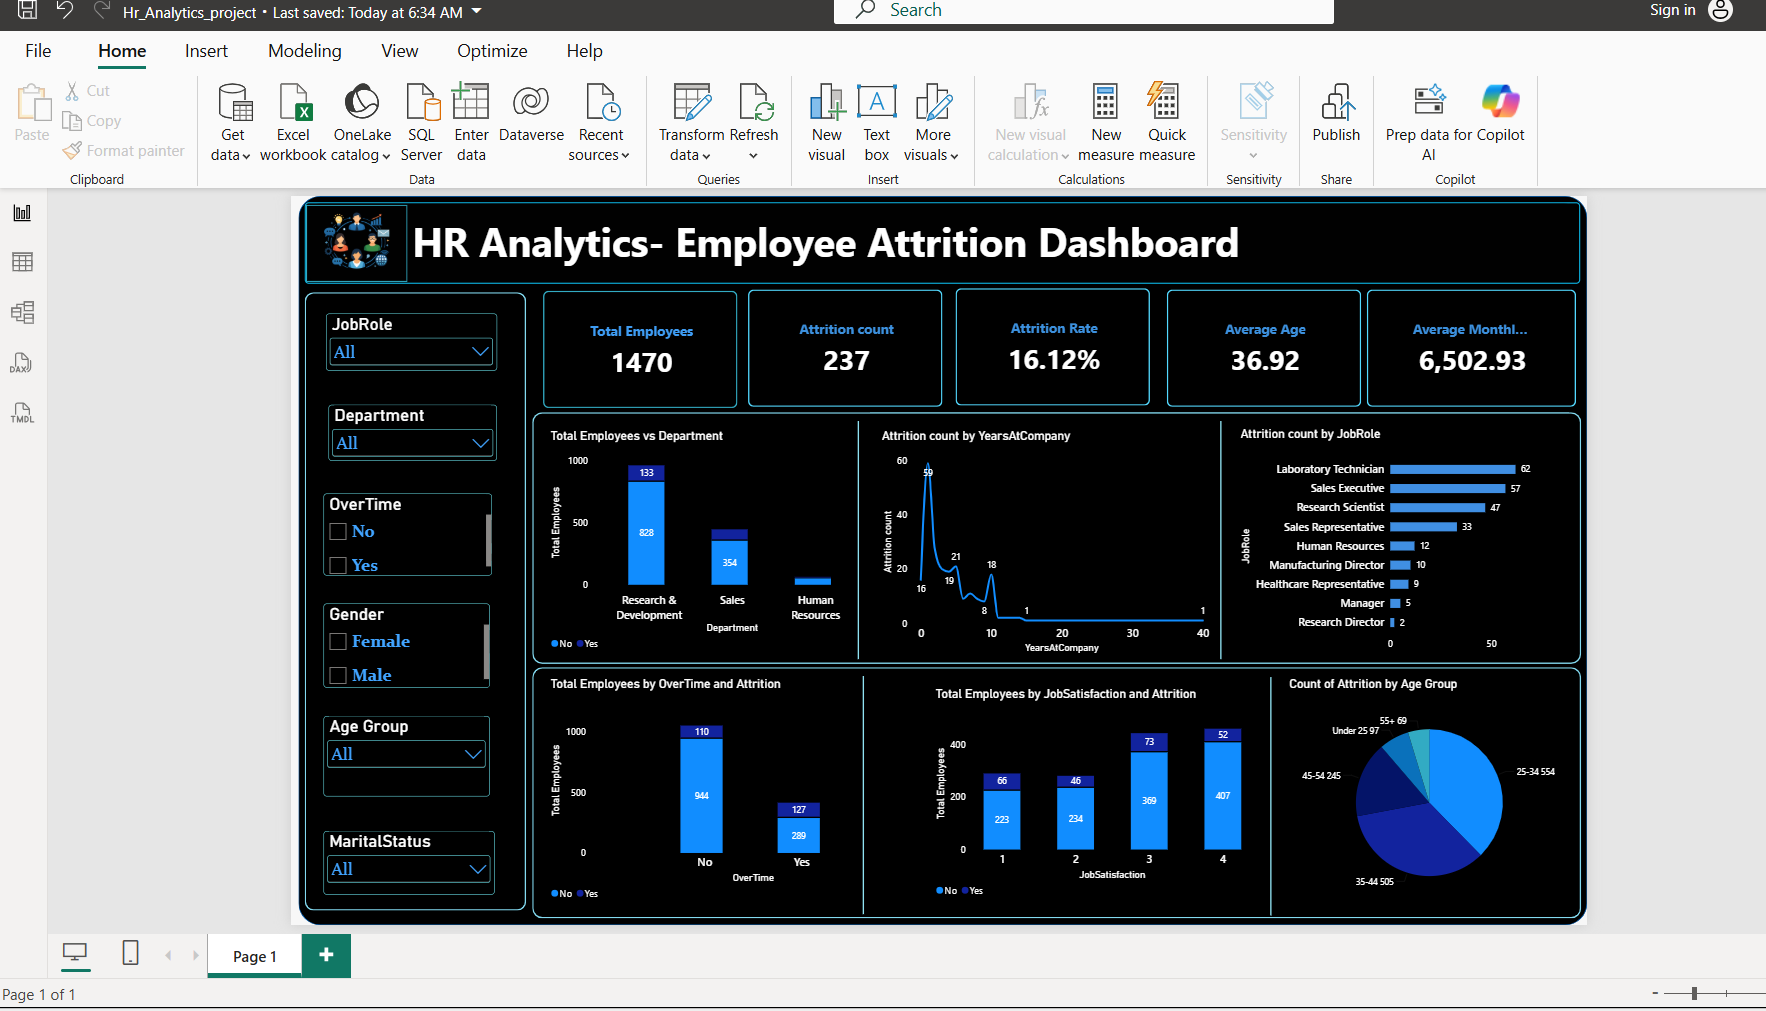

Layout of this report page (visuals, bound fields, positions):
{"tool":"powerbi","page":{"name":"Page 1","canvas":[1920,1080],"ordinal":0},"visuals":[{"type":"shape","box":[10.9,0,1909.2,1080.4],"z":0},{"type":"cardVisual","fields":{"Data":["Hr_Analytics.Attrition count"]},"box":[660.5,124.9,320,204],"z":1000},{"type":"cardVisual","fields":{"Data":["Hr_Analytics.Attrition Rate"]},"box":[968.2,123.1,320,204],"z":2000},{"type":"cardVisual","fields":{"Data":["Hr_Analytics.Average Age"]},"box":[1281.2,124.9,320,204],"z":3000},{"type":"cardVisual","fields":{"Data":["Hr_Analytics.Average Monthly Income"]},"box":[1578,124.9,342,204.5],"z":4000},{"type":"shape","box":[19.9,9,1889.3,121],"z":5000},{"type":"textbox","box":[180,27.1,1476.7,106.8],"z":6000},{"type":"shape","box":[19.9,143,328,916],"z":7000},{"type":"slicer","fields":{"Values":["Hr_Analytics.Gender"]},"box":[48.9,604.4,246.1,124.9],"z":8000},{"type":"slicer","fields":{"Values":["Hr_Analytics.OverTime"]},"box":[48.9,441.6,249.7,121.2],"z":9000},{"type":"slicer","fields":{"Values":["Hr_Analytics.JobRole"]},"box":[52.5,173.7,253.4,85.1],"z":10000},{"type":"slicer","fields":{"Values":["Hr_Analytics.Age Group"]},"box":[48.9,770.9,246.1,119.4],"z":11000},{"type":"shape","box":[356.5,320.3,1554,372.8],"z":12000},{"type":"columnChart","title":"Total Employees vs Department","fields":{"Category":["Hr_Analytics.Department"],"Series":["Hr_Analytics.Attrition"],"Y":["Hr_Analytics.Total Employees"]},"box":[369.2,329.4,504.9,363.7],"z":13000},{"type":"barChart","fields":{"Category":["Hr_Analytics.JobRole"],"Y":["Hr_Analytics.Attrition count"]},"box":[1391.6,327.5,501.3,365.6],"z":14000},{"type":"shape","box":[356.5,698.5,1554,372],"z":15000},{"type":"columnChart","fields":{"Category":["Hr_Analytics.OverTime"],"Series":["Hr_Analytics.Attrition"],"Y":["Hr_Analytics.Total Employees"]},"box":[369.2,698.5,570,365.6],"z":16000},{"type":"columnChart","fields":{"Category":["Hr_Analytics.JobSatisfaction"],"Series":["Hr_Analytics.Attrition"],"Y":["Hr_Analytics.Total Employees"]},"box":[939.2,713,501.3,345.6],"z":17000},{"type":"cardVisual","fields":{"Data":["Hr_Analytics.Total Employees"]},"box":[356.5,126.7,320.3,204.5],"z":19000},{"type":"lineChart","fields":{"Category":["Hr_Analytics.YearsAtCompany"],"Y":["Hr_Analytics.Attrition count"]},"box":[859.6,329.4,517.6,363.7],"z":20000},{"type":"slicer","fields":{"Values":["Hr_Analytics.Department"]},"box":[56.1,309.5,249.7,83.2],"z":21000},{"type":"slicer","fields":{"Values":["Hr_Analytics.MaritalStatus"]},"box":[48.9,941,253.4,94.1],"z":22000},{"type":"pieChart","fields":{"Category":["Hr_Analytics.Age Group"],"Y":["CountNonNull(Hr_Analytics.Attrition)"]},"box":[1462.2,698.5,447,365.6],"z":23000},{"type":"shape","box":[830.6,333,18.1,352.9],"z":23001},{"type":"shape","box":[1368.1,333,18.1,352.9],"z":23002},{"type":"shape","box":[1442.3,713,18.1,352.9],"z":23003},{"type":"shape","box":[839.7,711.2,18.1,352.9],"z":23004},{"type":"image","box":[21.7,12.7,150.2,114],"z":23005}]}

Visuals, with their boxes on the page's 1920x1080 design canvas (x1, y1, x2, y2). These are canvas units, not pixel positions in the 1766x1011 screenshot, which may show the page scaled, cropped or inside an application window:
shape: box=[11, 0, 1920, 1080]
cardVisual - Hr_Analytics.Attrition count: box=[660, 125, 980, 329]
cardVisual - Hr_Analytics.Attrition Rate: box=[968, 123, 1288, 327]
cardVisual - Hr_Analytics.Average Age: box=[1281, 125, 1601, 329]
cardVisual - Hr_Analytics.Average Monthly Income: box=[1578, 125, 1920, 329]
shape: box=[20, 9, 1909, 130]
textbox: box=[180, 27, 1657, 134]
shape: box=[20, 143, 348, 1059]
slicer - Hr_Analytics.Gender: box=[49, 604, 295, 729]
slicer - Hr_Analytics.OverTime: box=[49, 442, 299, 563]
slicer - Hr_Analytics.JobRole: box=[52, 174, 306, 259]
slicer - Hr_Analytics.Age Group: box=[49, 771, 295, 890]
shape: box=[356, 320, 1910, 693]
"Total Employees vs Department" columnChart: box=[369, 329, 874, 693]
barChart - Hr_Analytics.JobRole x Hr_Analytics.Attrition count: box=[1392, 328, 1893, 693]
shape: box=[356, 698, 1910, 1070]
columnChart - Hr_Analytics.OverTime x Hr_Analytics.Attrition: box=[369, 698, 939, 1064]
columnChart - Hr_Analytics.JobSatisfaction x Hr_Analytics.Attrition: box=[939, 713, 1440, 1059]
cardVisual - Hr_Analytics.Total Employees: box=[356, 127, 677, 331]
lineChart - Hr_Analytics.YearsAtCompany x Hr_Analytics.Attrition count: box=[860, 329, 1377, 693]
slicer - Hr_Analytics.Department: box=[56, 310, 306, 393]
slicer - Hr_Analytics.MaritalStatus: box=[49, 941, 302, 1035]
pieChart - Hr_Analytics.Age Group x CountNonNull(Hr_Analytics.Attrition): box=[1462, 698, 1909, 1064]
shape: box=[831, 333, 849, 686]
shape: box=[1368, 333, 1386, 686]
shape: box=[1442, 713, 1460, 1066]
shape: box=[840, 711, 858, 1064]
image: box=[22, 13, 172, 127]
